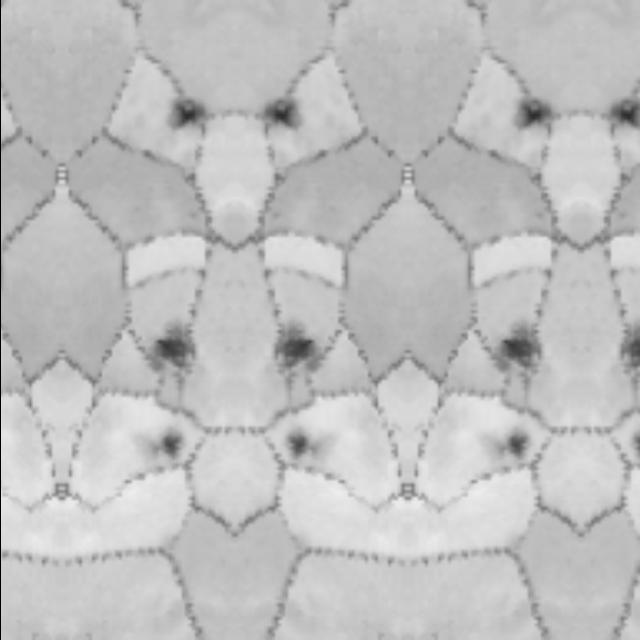good_void: (263, 315, 327, 379), (139, 315, 203, 379), (486, 315, 550, 379), (253, 84, 305, 144), (161, 84, 213, 144), (508, 84, 560, 144), (599, 84, 640, 144), (609, 315, 640, 379), (286, 434, 310, 457), (156, 434, 180, 457), (502, 434, 526, 457), (633, 434, 640, 457)
